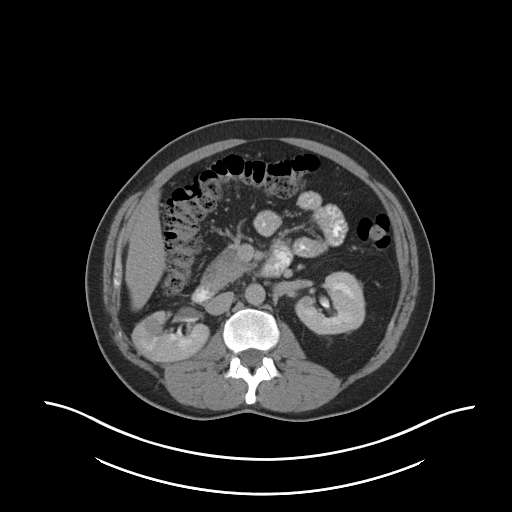Lesion: (140, 320, 164, 337)
